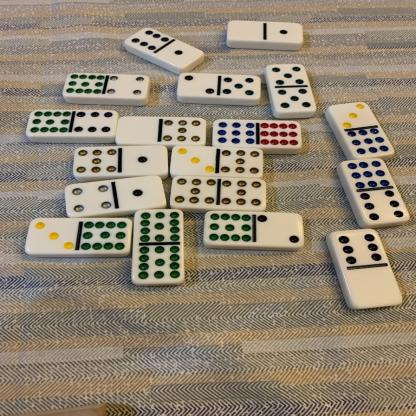pip-1: (112, 175, 164, 209), (119, 145, 168, 176), (157, 42, 202, 70), (265, 21, 302, 42)
pip-11: (131, 244, 185, 282), (78, 218, 132, 253), (204, 211, 254, 244), (134, 210, 182, 243), (26, 108, 70, 136), (62, 71, 105, 96)
pip-12: (257, 120, 301, 147)
pip-2: (254, 211, 302, 247), (178, 72, 218, 98)
pip-3: (24, 217, 76, 253), (326, 100, 375, 128), (169, 145, 216, 174)
pip-4: (62, 182, 112, 216), (106, 73, 147, 98)
pip-5: (270, 86, 315, 111), (218, 74, 260, 100), (264, 63, 310, 86)
pip-6: (327, 229, 387, 263), (356, 190, 410, 224), (72, 108, 116, 135), (124, 26, 168, 52)
pip-7: (219, 177, 266, 210), (170, 175, 216, 206), (216, 148, 262, 177), (73, 146, 119, 175), (161, 116, 206, 144)
pip-9: (342, 127, 394, 159), (340, 160, 392, 190), (212, 118, 257, 146)
